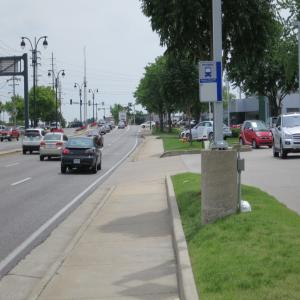Vehicle-registration-plate: (47, 145, 56, 150), (75, 158, 81, 164), (30, 139, 35, 143)
